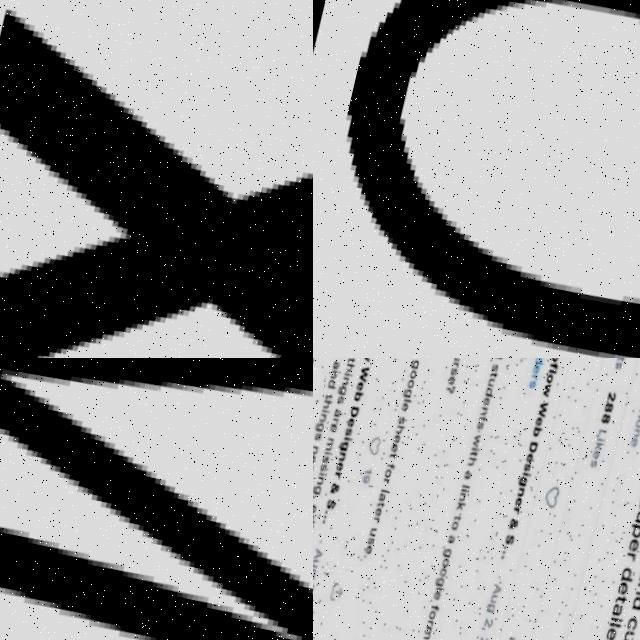4: (605, 404, 615, 417), (602, 415, 612, 427)
5: (362, 474, 372, 484)
M: (0, 358, 313, 640)
X: (0, 0, 313, 358)
